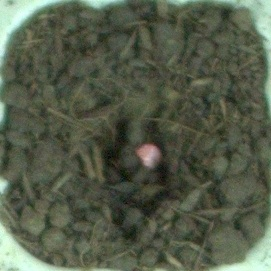chilli seed: (134, 142, 165, 170)
